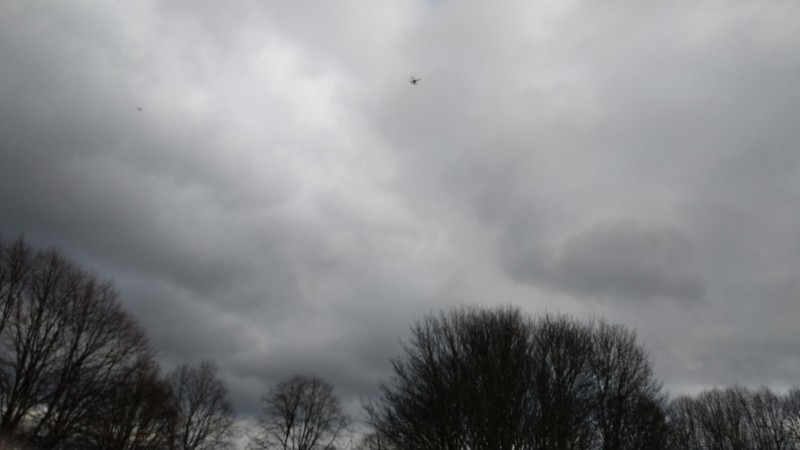drone: (409, 76, 421, 86)
